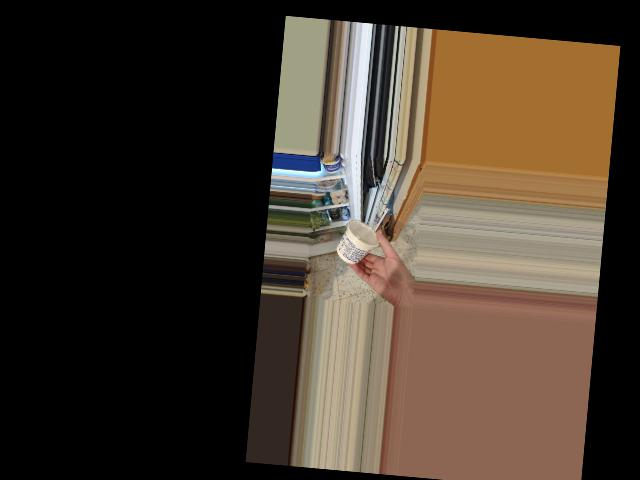cotage: (337, 218, 383, 262)
